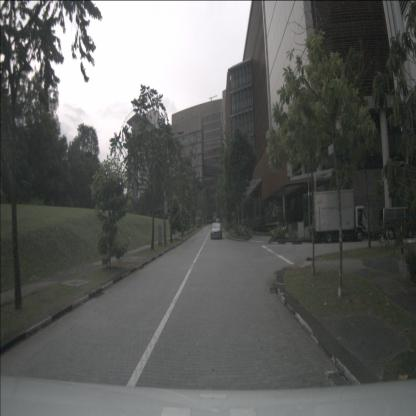vehicle-bicycle: (377, 225, 394, 250)
vehicle-car: (378, 207, 416, 240), (211, 223, 222, 239)
vehicle-truck: (312, 189, 368, 243)
